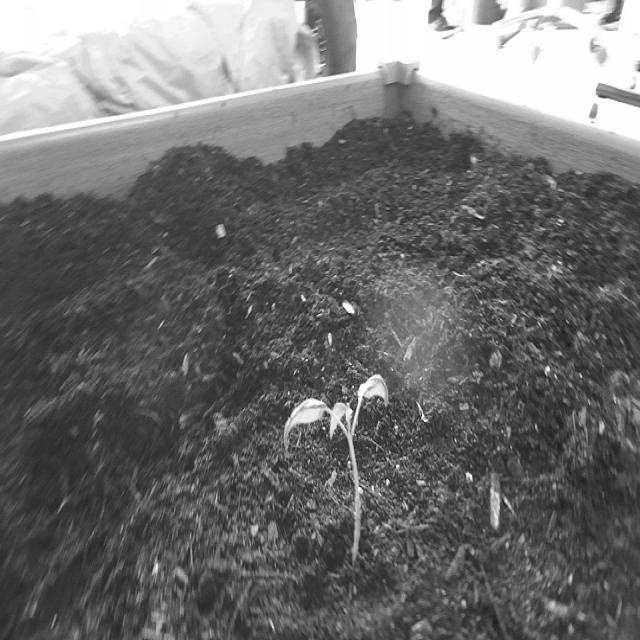Healthy: (267, 363, 405, 573)
